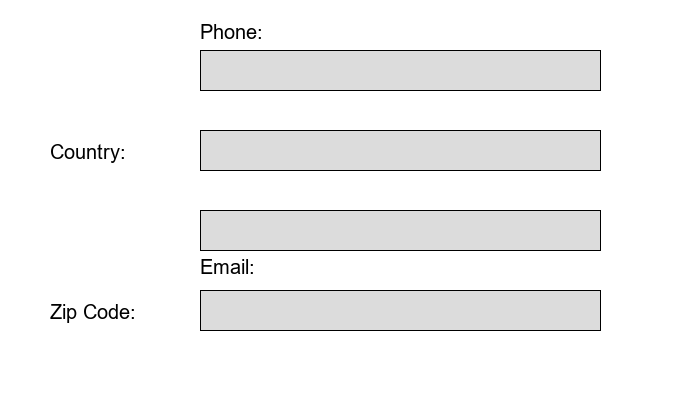Label: (50, 300, 130, 319), (50, 140, 120, 159), (200, 20, 257, 35), (200, 255, 249, 270)
Textbox: (200, 50, 600, 90), (200, 130, 600, 170), (200, 210, 600, 250), (200, 290, 600, 330)
